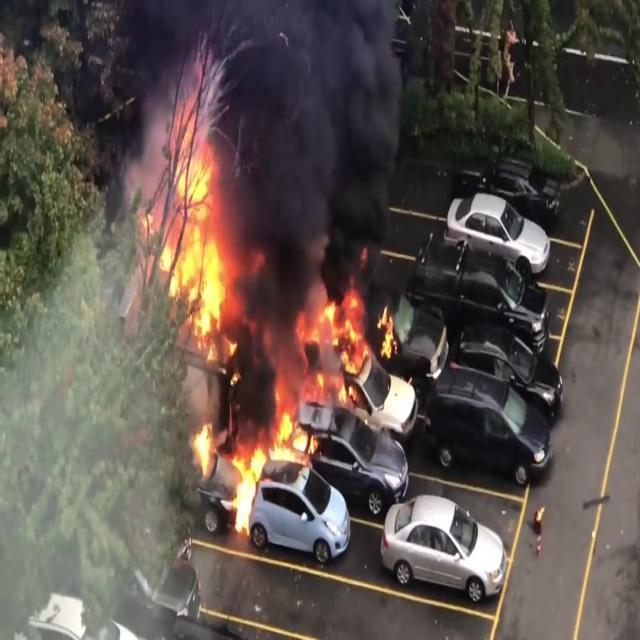Fire: (138, 100, 245, 353), (279, 278, 407, 444), (228, 440, 266, 537), (190, 419, 216, 476)
Smoke: (20, 0, 414, 320), (218, 0, 414, 296)
